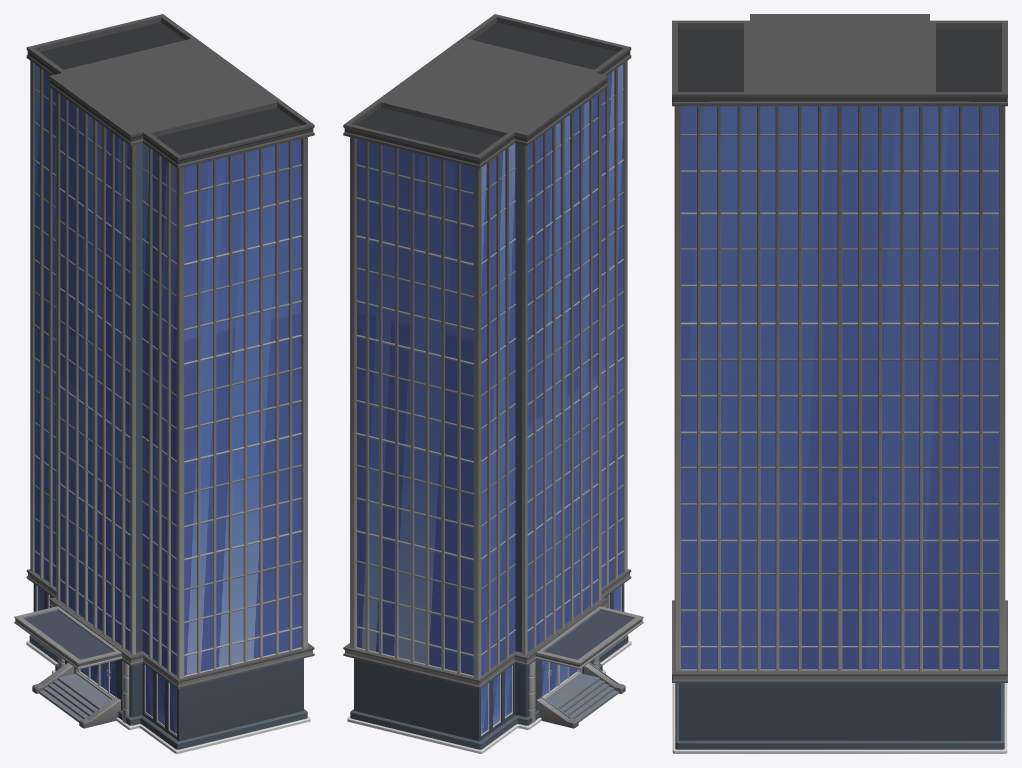
File: Building_17_3_KK.fbx
3 views of the same model, side by side, from view 1: azimuth 30°, elevation 25°; view 2: azimuth 150°, elevation 25°; view 3: azimuth 270°, elevation 25° (orthographic). The views are drawn at different scales.
Parts seen in each view (by area): view 1: Building_17_3_KK; view 2: Building_17_3_KK; view 3: Building_17_3_KK.
Part boxes in pixels (x1,y1,x2,y2): Building_17_3_KK: [14, 14, 314, 753]; Building_17_3_KK: [343, 14, 643, 753]; Building_17_3_KK: [672, 14, 1007, 753].
Size of the model in its own units: 857 by 2536 by 1168.
